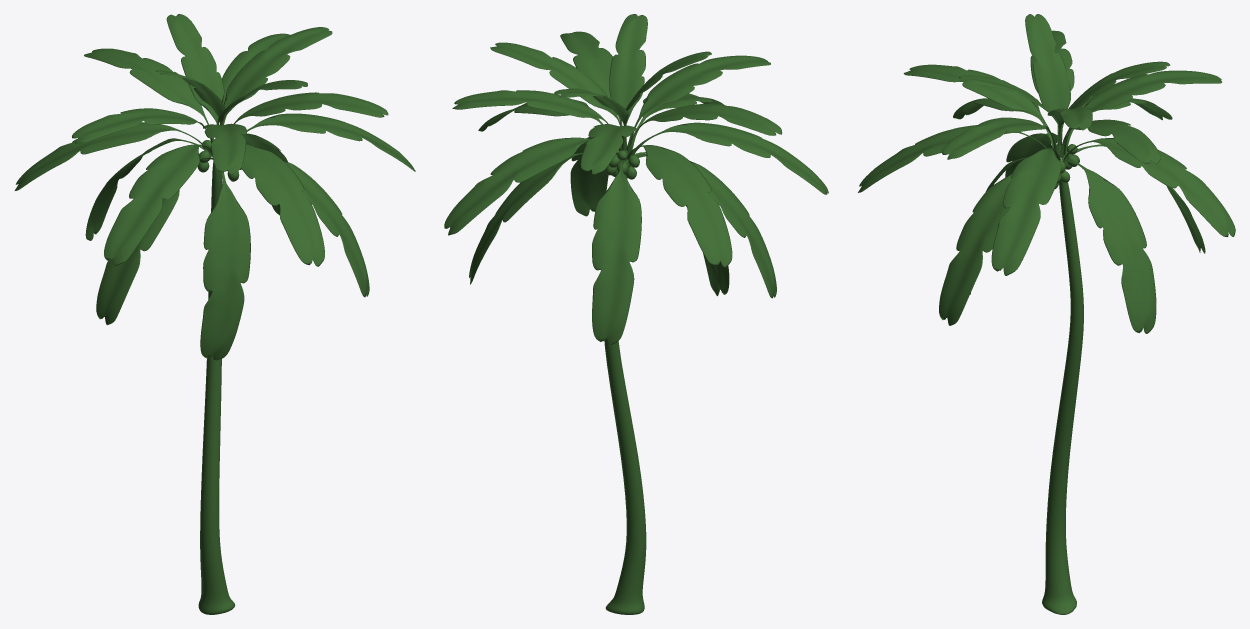
Rendered from palm.glb.
3 renders of one model, left to right at view 1: azimuth 30°, elevation 25°; view 2: azimuth 150°, elevation 25°; view 3: azimuth 270°, elevation 25°, orthographic.
Parts seen in each view (by area): view 1: 10446_Palm_Tree_v1_SG; view 2: 10446_Palm_Tree_v1_SG; view 3: 10446_Palm_Tree_v1_SG.
Part boxes in pixels (left/top/right/bottom): 10446_Palm_Tree_v1_SG: left=14, top=14, right=415, bottom=614; 10446_Palm_Tree_v1_SG: left=444, top=14, right=828, bottom=614; 10446_Palm_Tree_v1_SG: left=858, top=14, right=1235, bottom=614.
Size of the model in its own units: 6.08 by 10 by 6.13.
